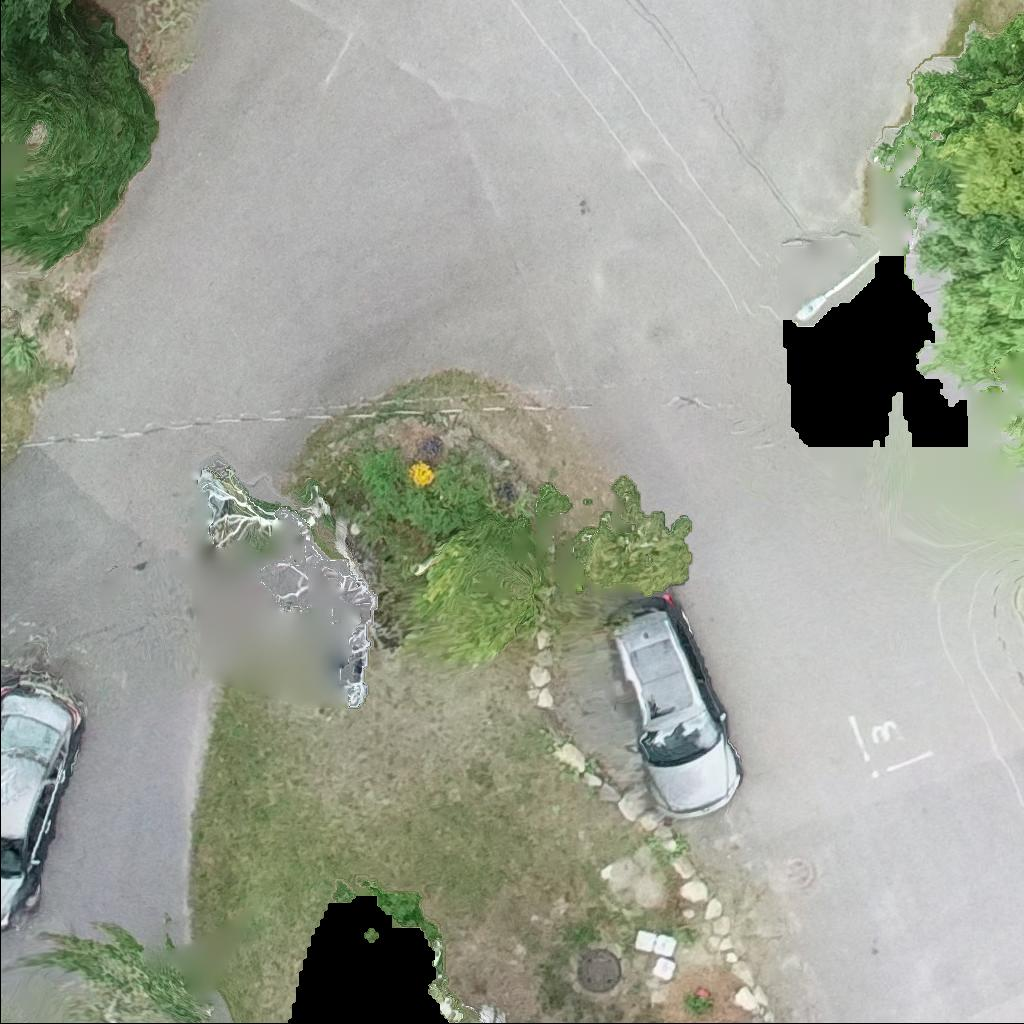crown: (906, 24, 1023, 384)
